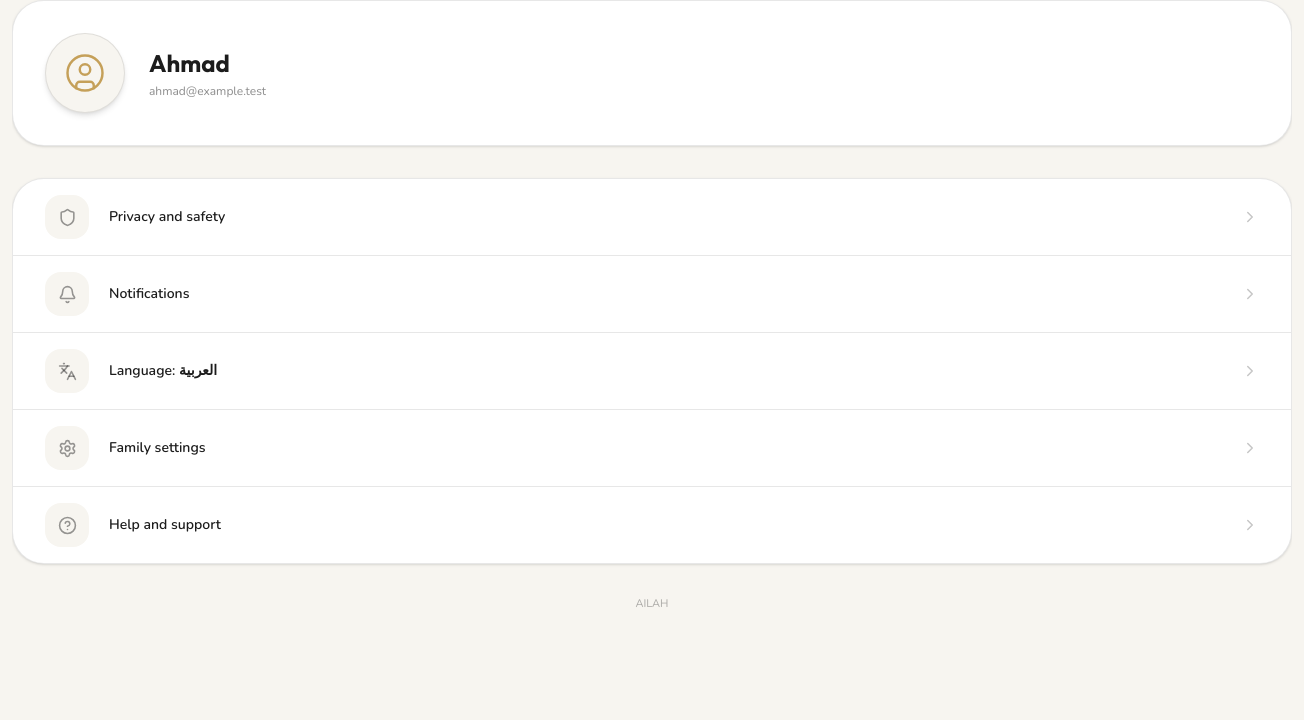
More mobile account page › switches the account page between English and Arabic without placeholder alerts
Click the button "Language: العربية" at point(67, 371), box [13, 333, 1291, 410]
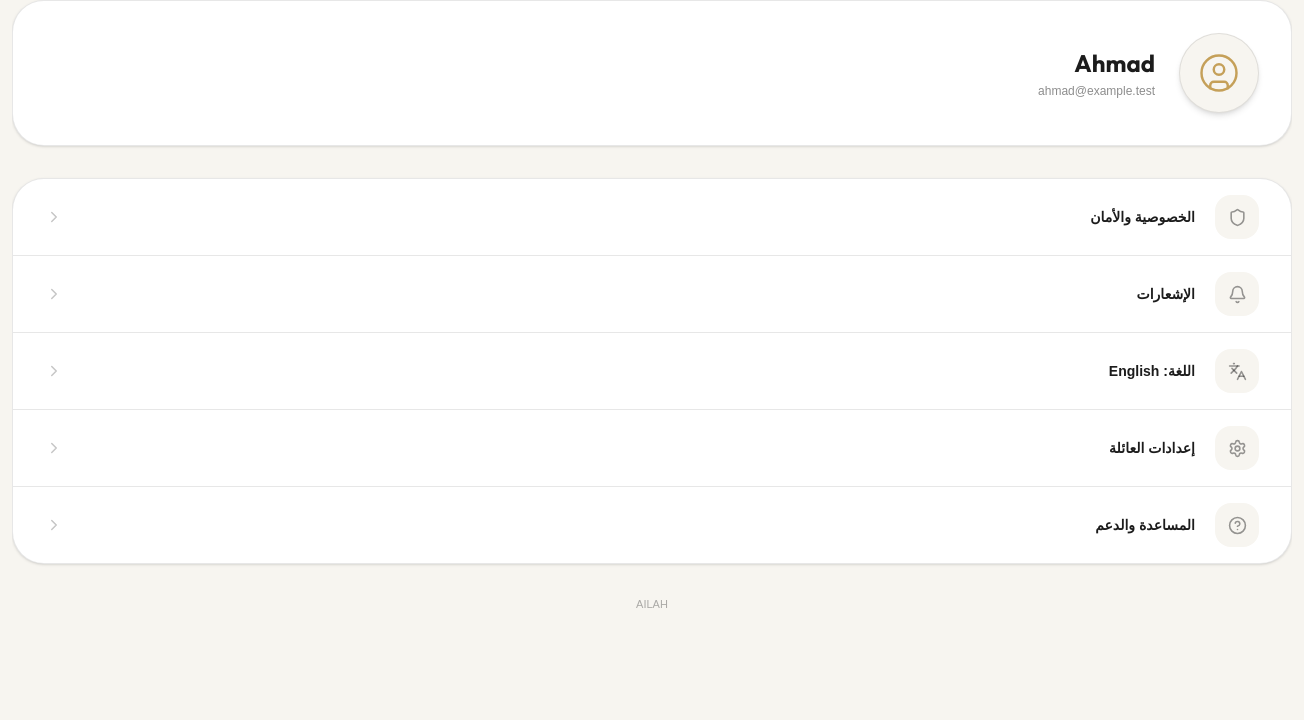
Now the button "اللغة: English" is shown, box [13, 333, 1291, 410]
